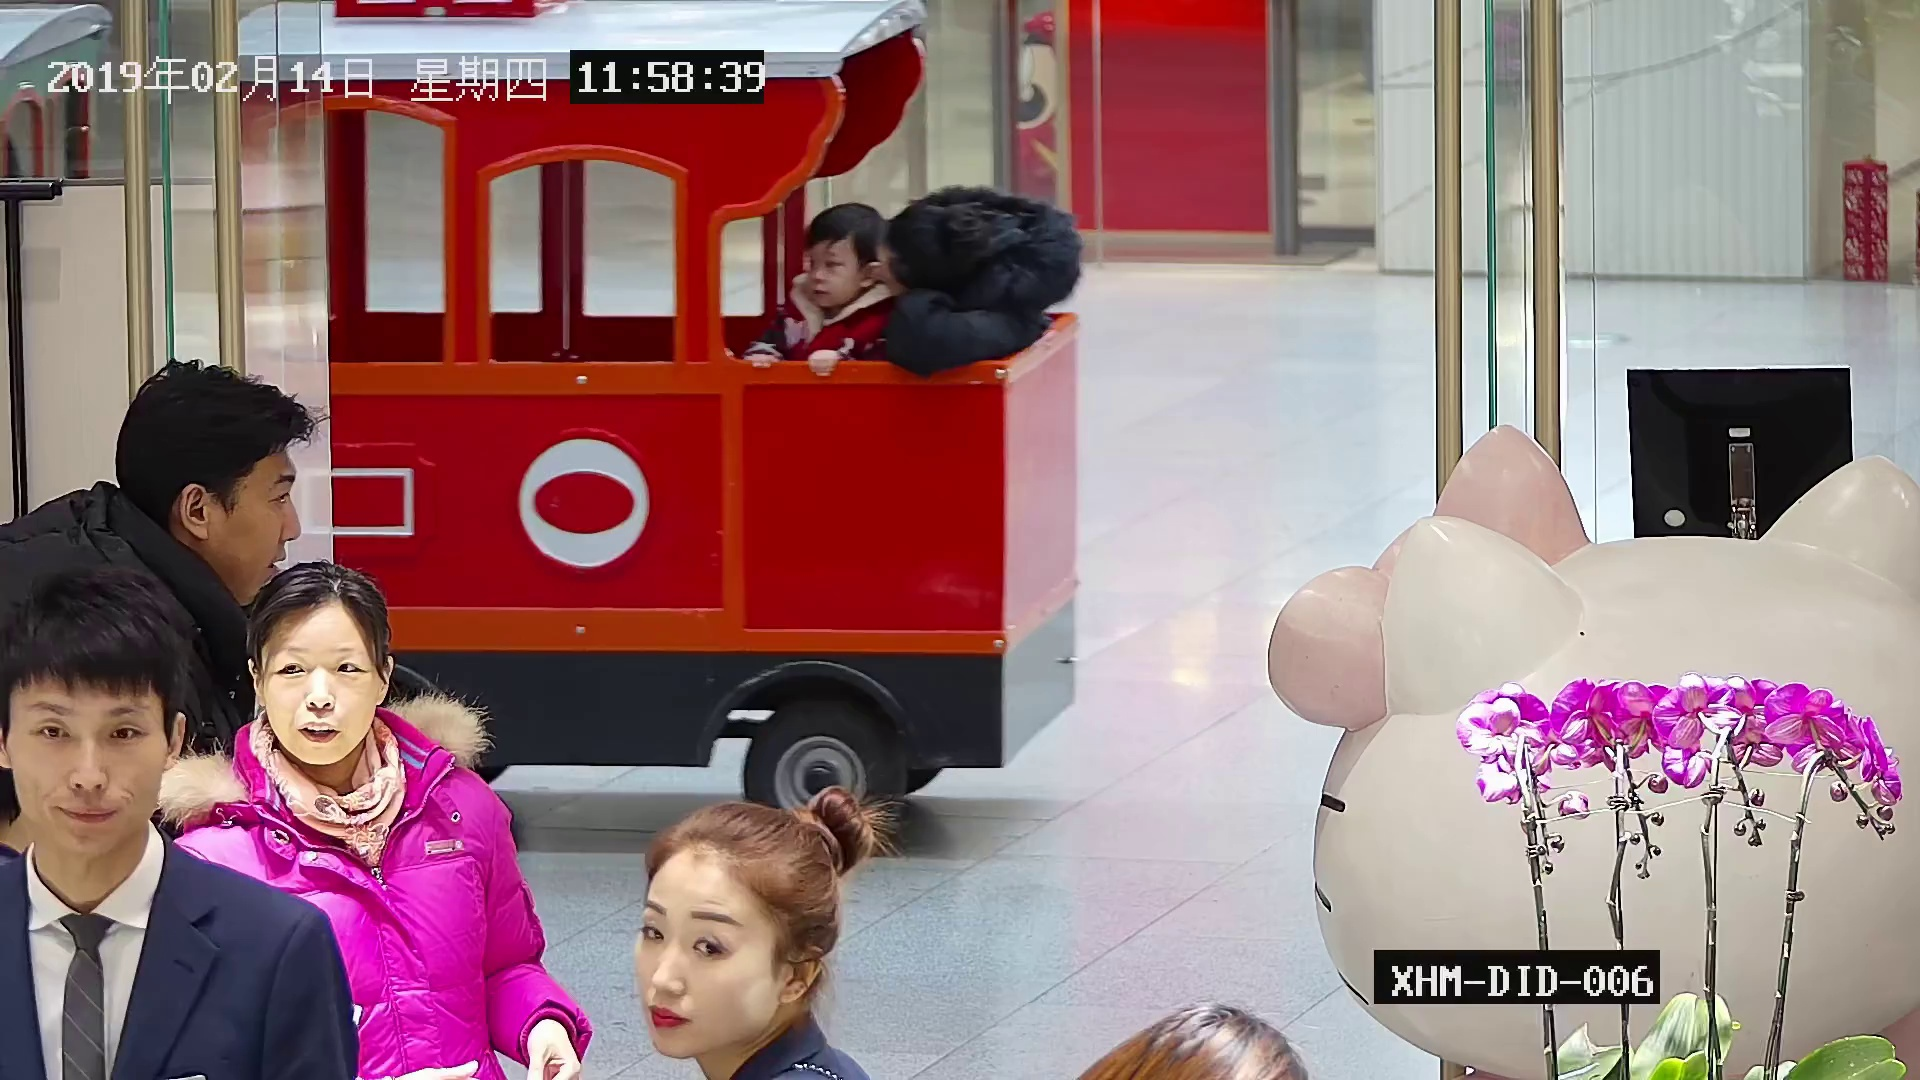head: (0, 572, 187, 859), (630, 800, 825, 1057), (115, 352, 302, 603), (244, 558, 391, 765), (1083, 1002, 1312, 1077), (877, 202, 978, 311), (803, 201, 886, 306)
